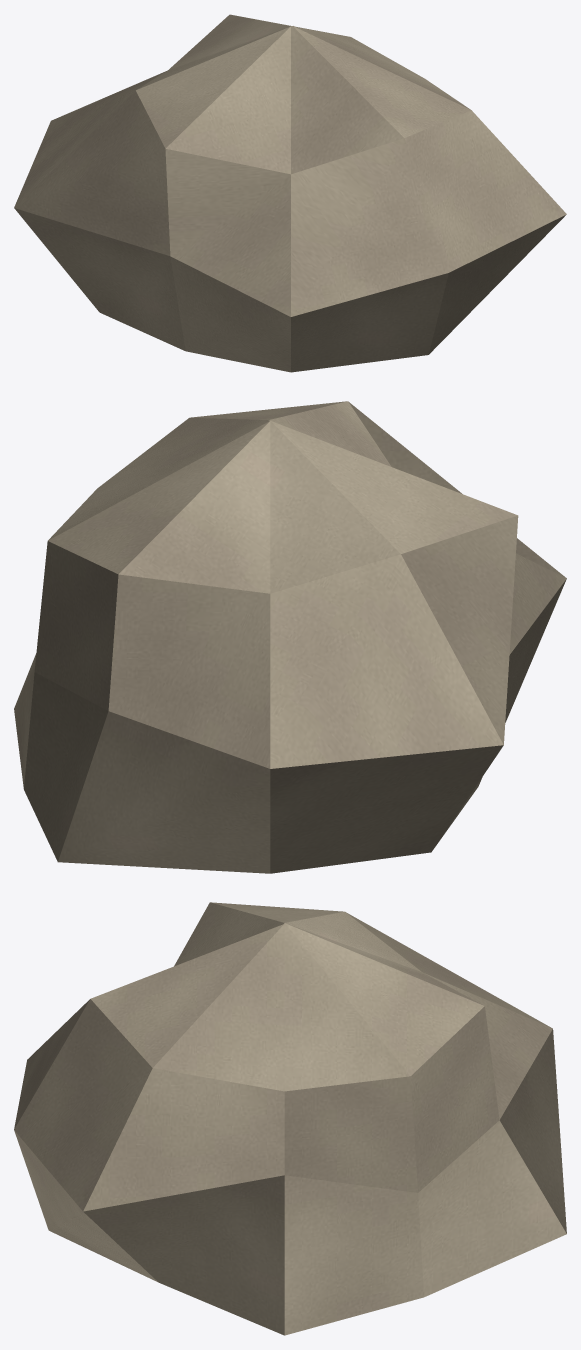
File: rock_v2.glb
The picture shows the model from 3 angles, top to bottom: view 1: azimuth 30°, elevation 25°; view 2: azimuth 150°, elevation 25°; view 3: azimuth 270°, elevation 25°; orthographic projection. The views are drawn at different scales.
Parts seen in each view (by area): view 1: Variant_rock_2; view 2: Variant_rock_2; view 3: Variant_rock_2.
Part boxes in pixels (<box>): Variant_rock_2: <box>14,14,566,372</box>; Variant_rock_2: <box>14,401,566,873</box>; Variant_rock_2: <box>14,902,566,1335</box>.
Size of the model in its own units: 0.988 by 0.6 by 0.9885.
Materials: 1 (1 with a texture image).
